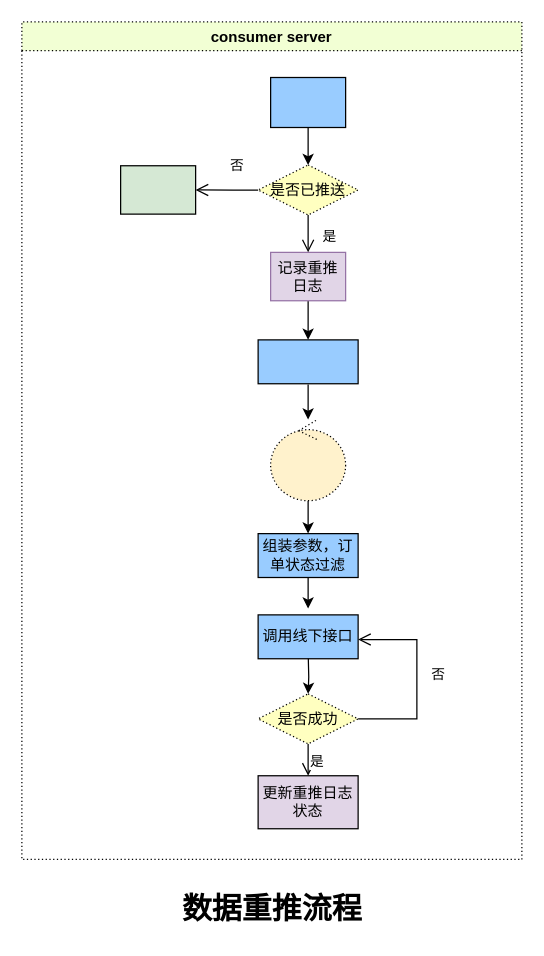
Image size: 544x956. Some labels were removed from this diagram. The centre of each missing label's shape, as x and y in pixels:
"log记录" belongs at (x=157, y=189).
"商家号 路由" belongs at (x=307, y=459).
"查询订单信息" belongs at (x=307, y=361).
"重推接口" belongs at (x=307, y=102).
